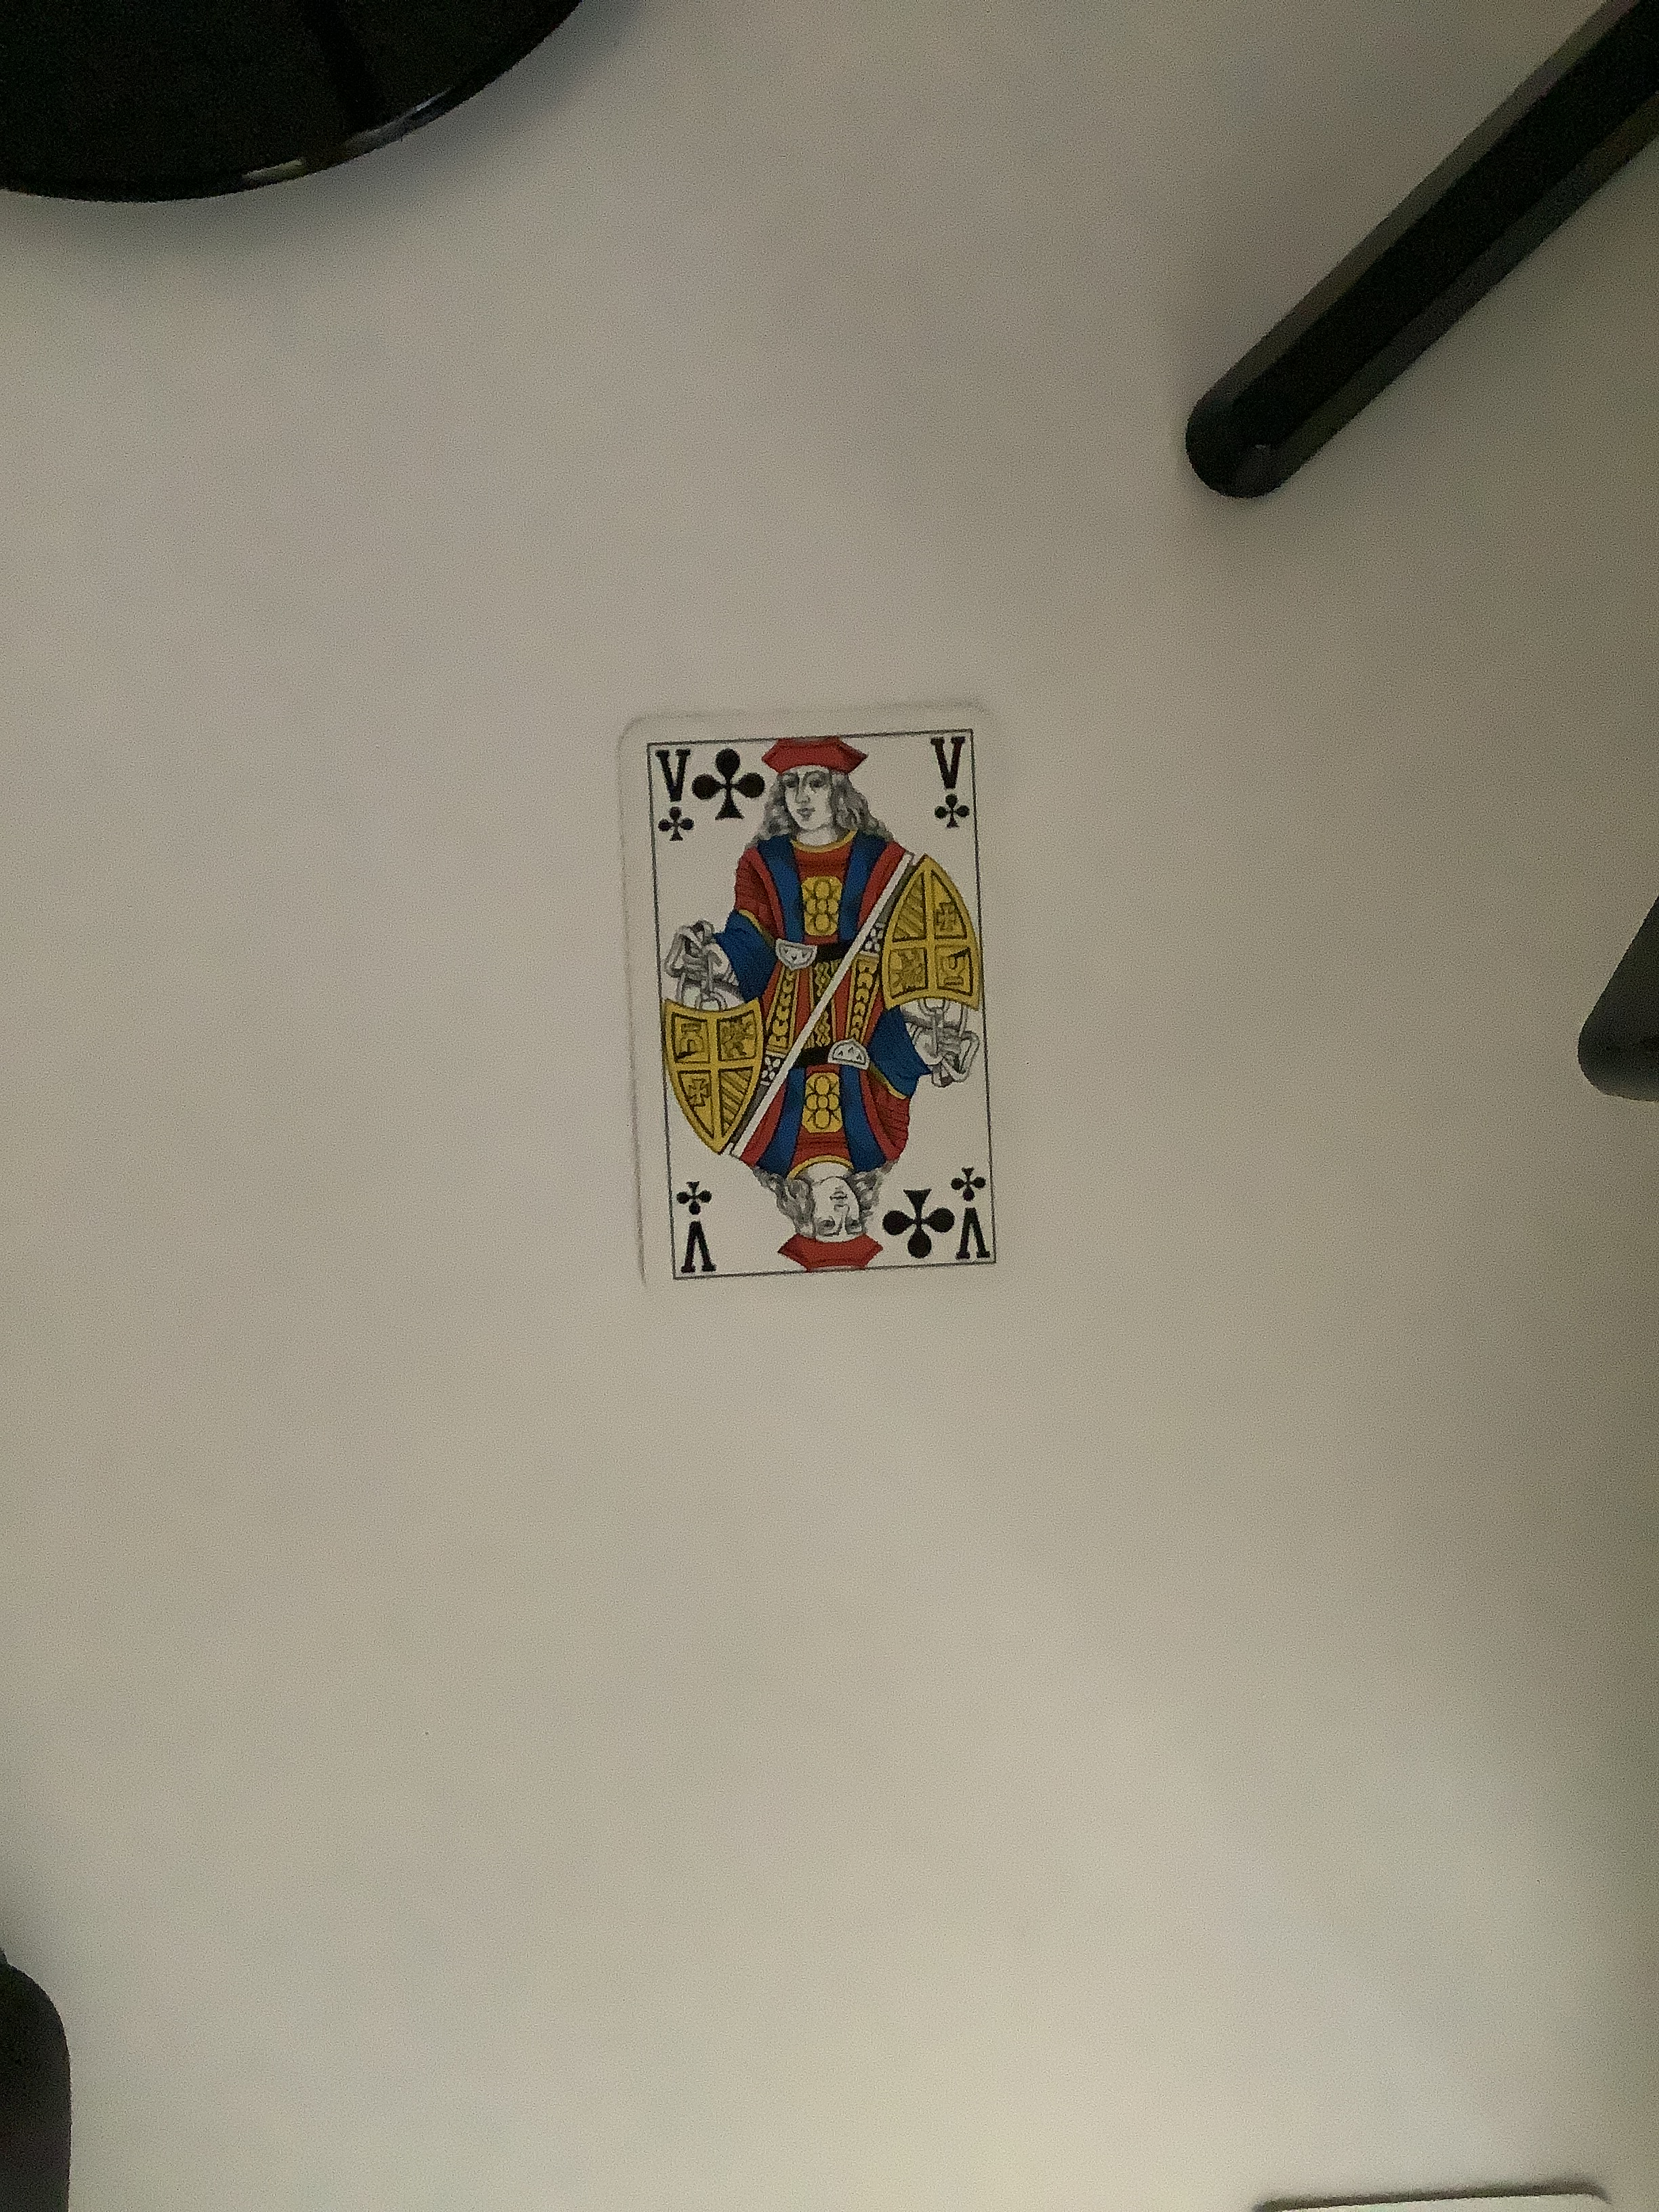♣ J: (586, 697, 1021, 1325)
